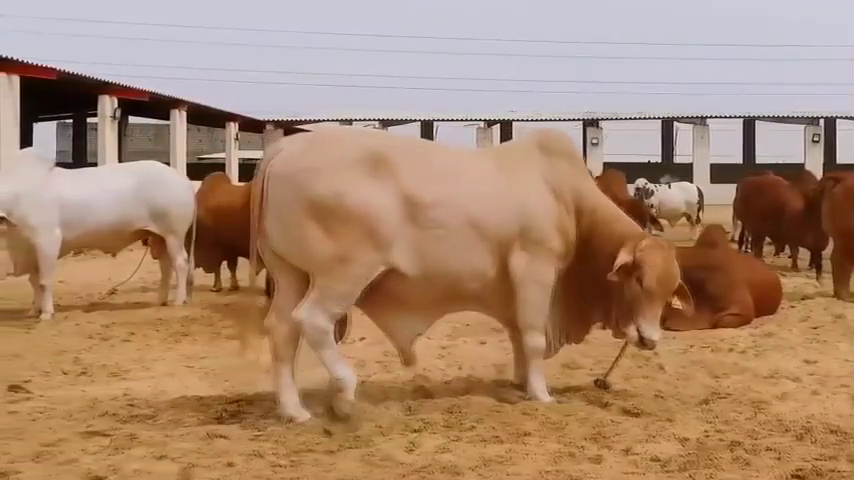bo: (248, 124, 696, 418), (4, 143, 200, 330), (666, 220, 787, 334), (731, 166, 824, 275), (190, 168, 262, 304), (797, 164, 849, 311), (629, 166, 714, 242), (584, 160, 652, 237)
